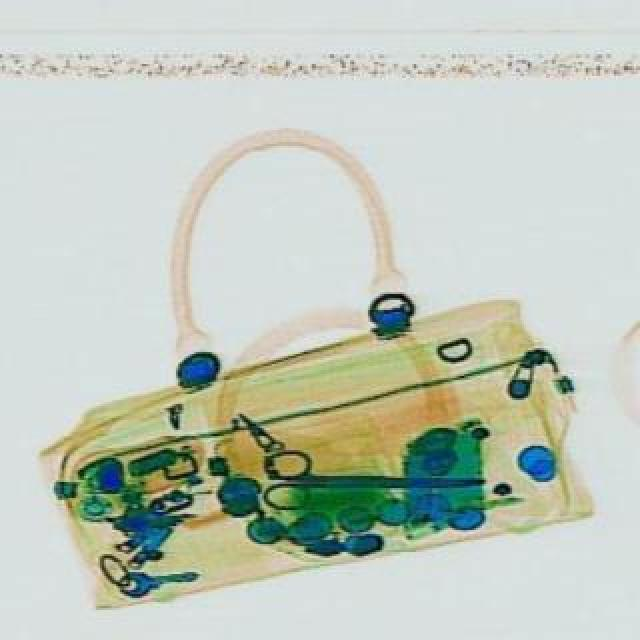pliers: (260, 448, 484, 512)
